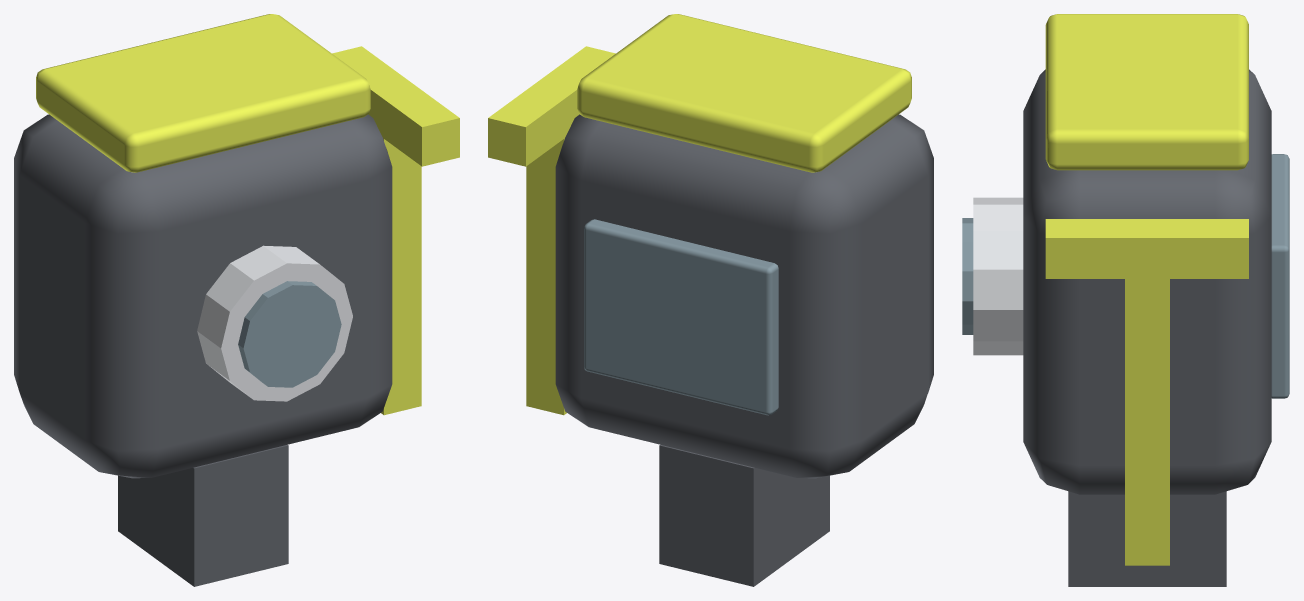
The model's file is fire-and-emergency-services-thermal-imaging-camera-d46e21b6__29916.glb.
The picture shows the model from 3 angles, left to right: view 1: azimuth 30°, elevation 25°; view 2: azimuth 150°, elevation 25°; view 3: azimuth 270°, elevation 25°; orthographic projection. The views are drawn at different scales.
Visible parts, largest first — view 1: thermal-imaging-camera; view 2: thermal-imaging-camera; view 3: thermal-imaging-camera.
Boxes of the visible parts, x1,y1,x2,y2 form: thermal-imaging-camera: (14, 14, 459, 586); thermal-imaging-camera: (488, 14, 933, 586); thermal-imaging-camera: (962, 14, 1289, 586).
Size of the model in its own units: 0.19 by 0.24 by 0.145.
